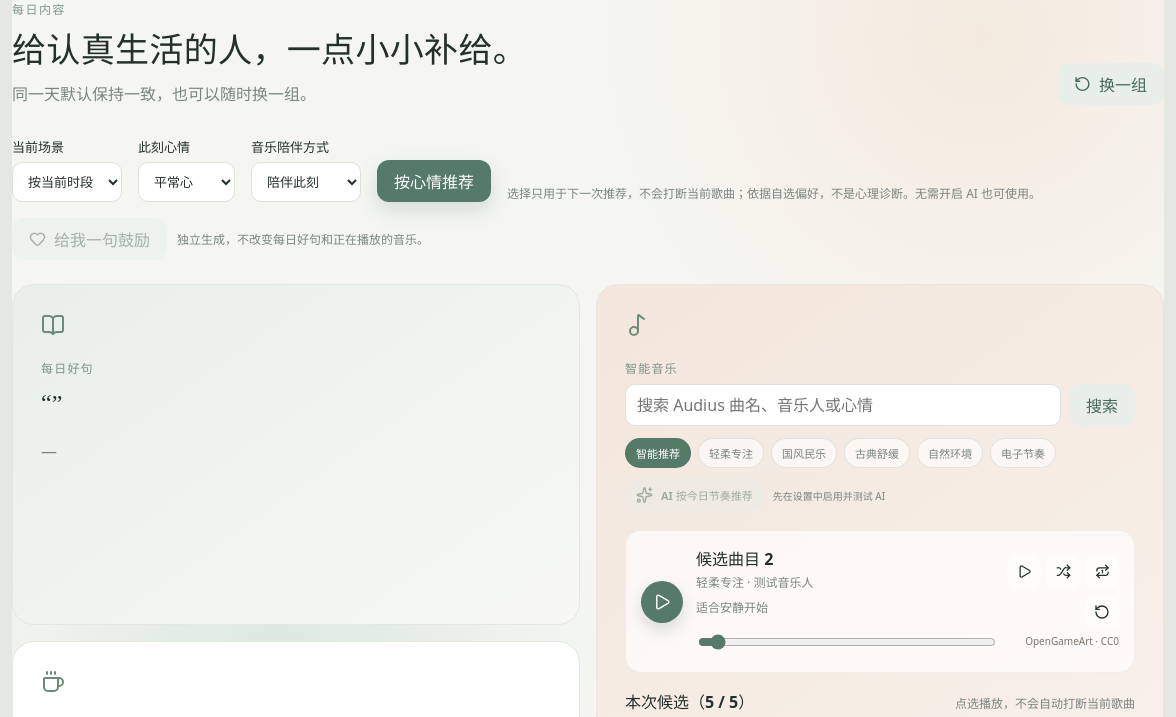
Test case: 心情音乐候选与本机反馈 › 搜索与下一轮推荐传入本机反馈，所有候选被排除时展示空态而不绕过
Type "歌手 曲名" into the field with placeholder "搜索 Audius 曲名、音乐人或心情" at (843, 405), box [625,384,1061,426]
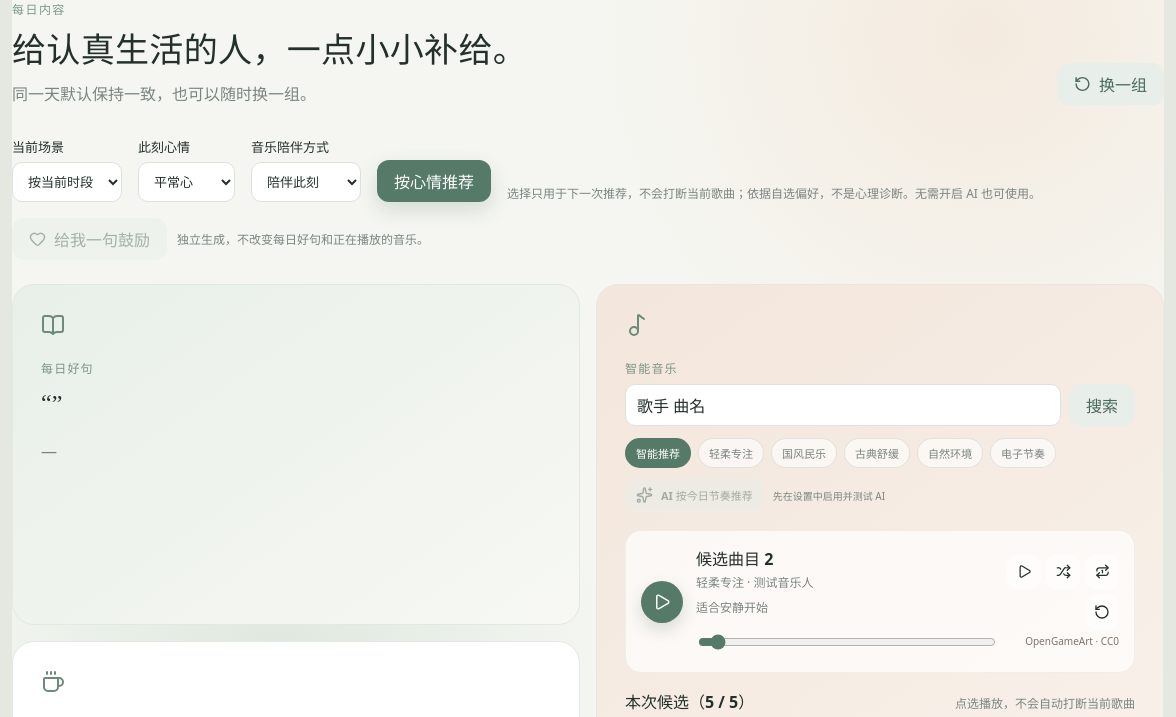
Click the button "搜索" at (1102, 405), box [1069,384,1135,426]
(page scrolled)
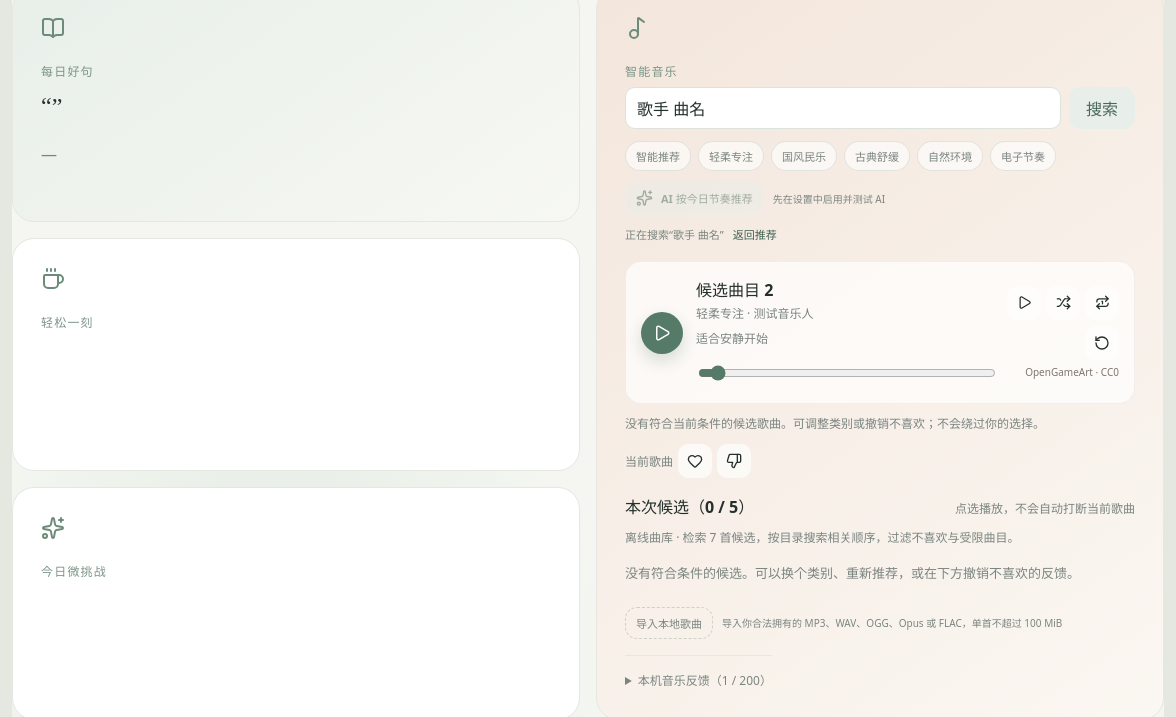
Expected: the file field labelled "导入本地歌曲" is enabled, [625,607,713,639]
Result: the text "没有符合当前条件的候选歌曲。可调整类别或撤销不喜欢；不会绕过你的选择。" is shown at [625,415,1045,432]
Result: the text "离线曲库 · 检索 7 首候选，按目录搜索相关顺序，过滤不喜欢与受限曲目。" is shown at [625,529,1020,546]
